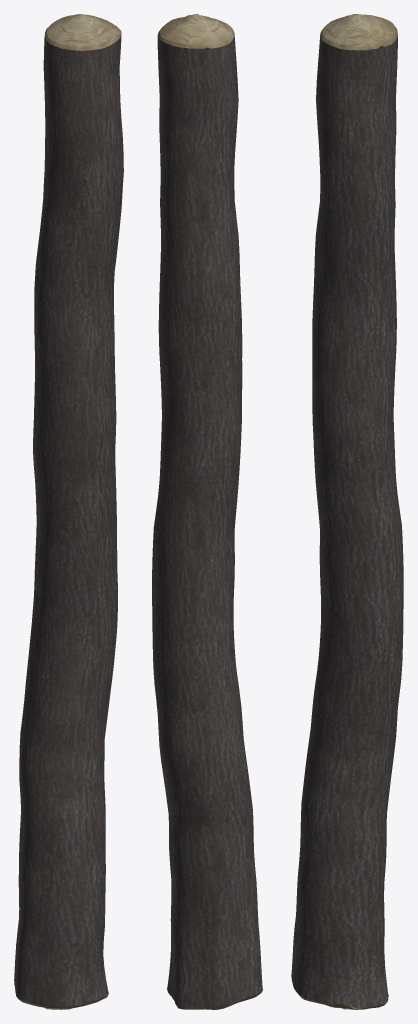
3 renders of one model, left to right at view 1: azimuth 30°, elevation 25°; view 2: azimuth 150°, elevation 25°; view 3: azimuth 330°, elevation 25°, orthographic.
Parts seen in each view (by area): view 1: SM_BM_Oak_Tree_01_full_LOD0; view 2: SM_BM_Oak_Tree_01_full_LOD0; view 3: SM_BM_Oak_Tree_01_full_LOD0.
Boxes of the visible parts, x1,y1,x2,y2 form: SM_BM_Oak_Tree_01_full_LOD0: [14, 14, 123, 1009]; SM_BM_Oak_Tree_01_full_LOD0: [152, 14, 262, 1009]; SM_BM_Oak_Tree_01_full_LOD0: [291, 14, 403, 1009].
Size of the model in its own units: 1.04 by 9.94 by 0.9293.
Materials: 1 (1 with a texture image).
